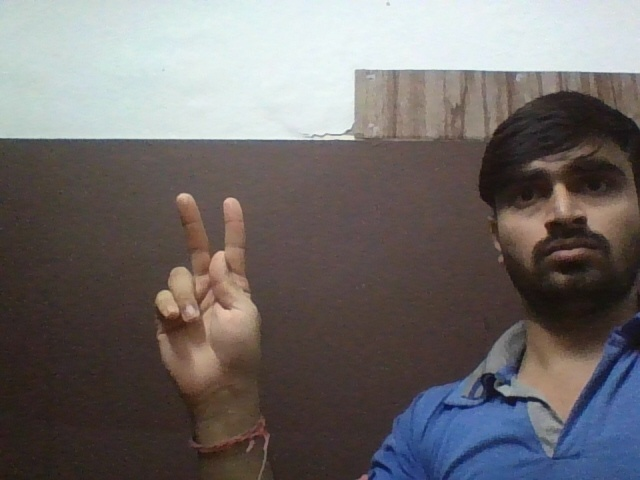K: (134, 185, 270, 410)
